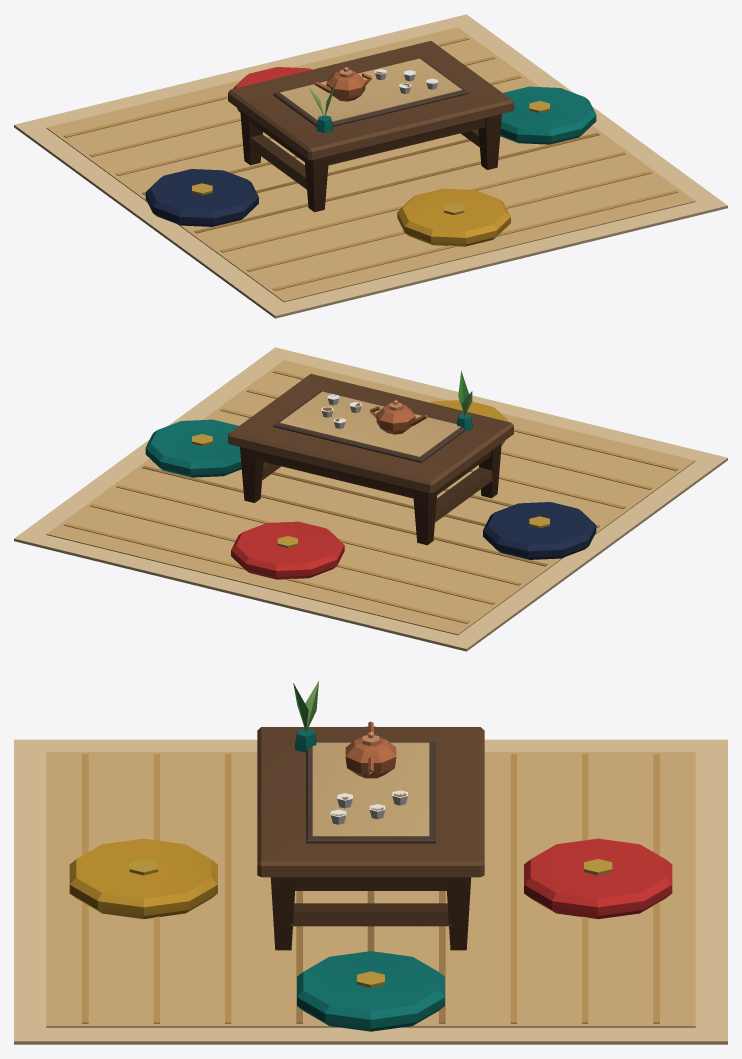
File: set_tea_table_01.glb
The picture shows the model from 3 angles, top to bottom: view 1: azimuth 30°, elevation 25°; view 2: azimuth 150°, elevation 25°; view 3: azimuth 270°, elevation 25°; orthographic projection. The views are drawn at different scales.
Visible parts, largest first — view 1: set_tea_table_01_mesh; view 2: set_tea_table_01_mesh; view 3: set_tea_table_01_mesh.
Boxes of the visible parts, x1,y1,x2,y2 form: set_tea_table_01_mesh: (14,14,727,318); set_tea_table_01_mesh: (14,347,727,651); set_tea_table_01_mesh: (14,681,727,1044).
Size of the model in its own units: 2.2 by 0.5799 by 2.2.
1 material, 1 textured.
